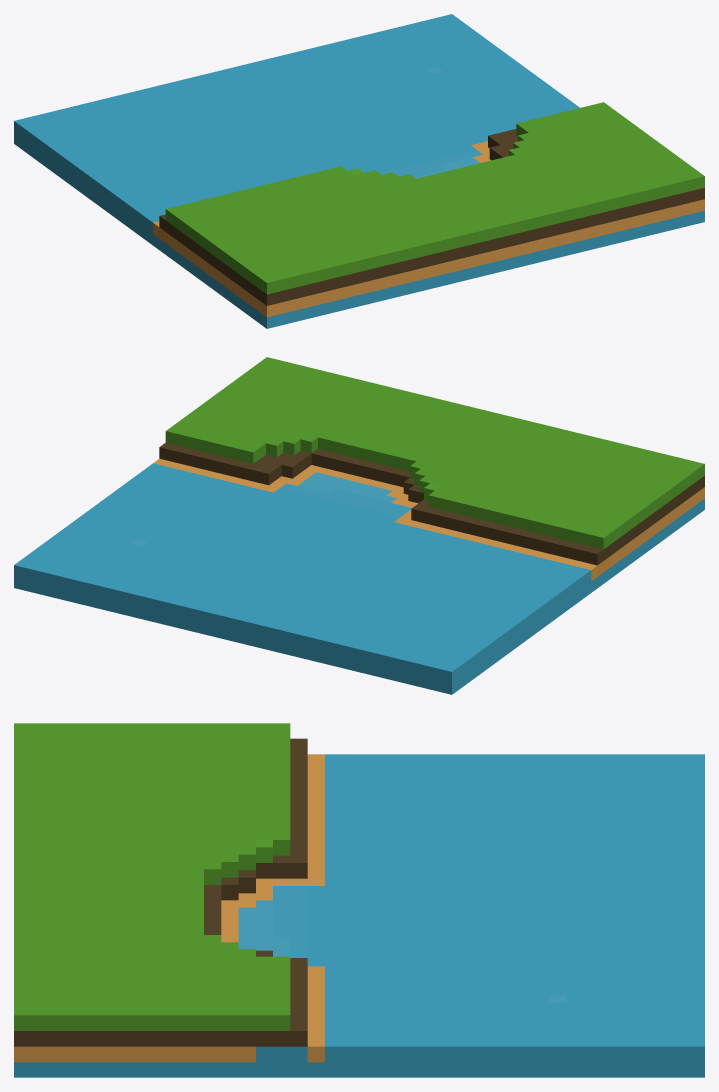
Rendered from river3-3-River.obj.
The picture shows the model from 3 angles, top to bottom: view 1: azimuth 30°, elevation 25°; view 2: azimuth 150°, elevation 25°; view 3: azimuth 270°, elevation 25°; orthographic projection. The views are drawn at different scales.
Parts seen in each view (by area): view 1: River; view 2: River; view 3: River.
Boxes of the visible parts, x1,y1,x2,y2 form: River: [14, 14, 704, 328]; River: [14, 357, 704, 694]; River: [14, 723, 704, 1077].
Bounding box in the file's own units: 4 × 0.4 × 4.
